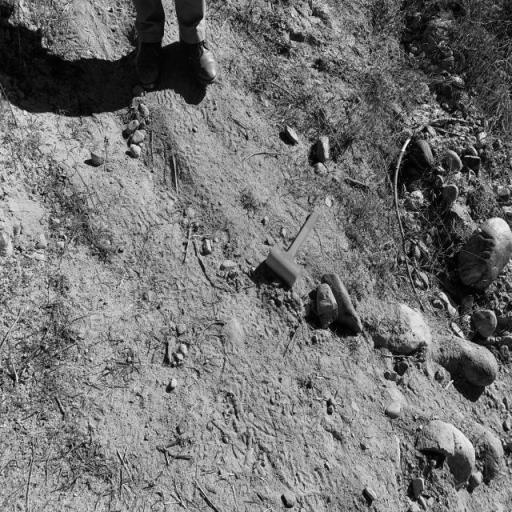mallet: (265, 201, 325, 289)
